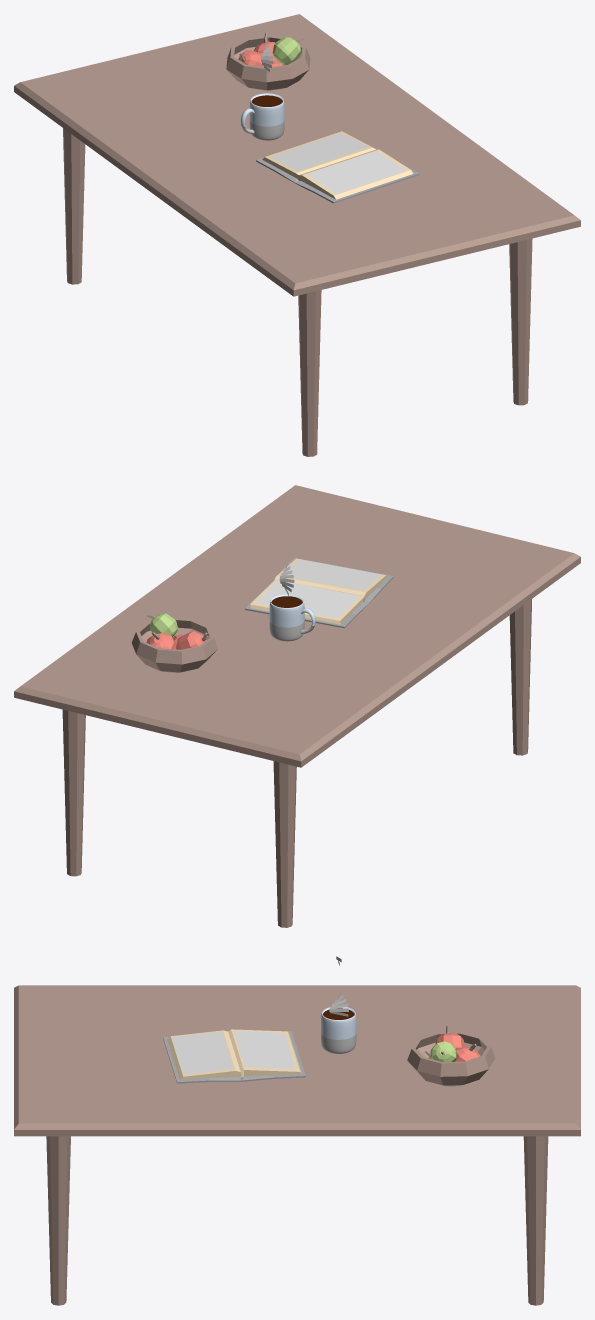
Rendered from table.glb.
The picture shows the model from 3 angles, top to bottom: view 1: azimuth 30°, elevation 25°; view 2: azimuth 150°, elevation 25°; view 3: azimuth 270°, elevation 25°; orthographic projection.
Visible parts, largest first — view 1: table, fruit_basket, open_book, right_page_ref, left_page_ref, mug_top; view 2: table, fruit_basket, open_book, left_page_ref, right_page_ref, mug_top; view 3: table, fruit_basket, open_book, right_page_ref, left_page_ref, mug_top, mug_bottom.
Boxes of the visible parts, box(x1,y1,x2,y2) form: table: box(14, 14, 580, 456); fruit_basket: box(226, 32, 310, 90); open_book: box(256, 131, 419, 203); right_page_ref: box(306, 151, 406, 194); left_page_ref: box(272, 133, 368, 171); mug_top: box(240, 93, 284, 126); table: box(14, 485, 580, 927); fruit_basket: box(131, 613, 217, 672); open_book: box(245, 557, 393, 628); left_page_ref: box(256, 580, 359, 617); right_page_ref: box(286, 560, 382, 590); mug_top: box(269, 594, 315, 627); table: box(14, 985, 580, 1305); fruit_basket: box(407, 1026, 495, 1086); open_book: box(163, 1029, 305, 1083); right_page_ref: box(171, 1031, 233, 1074); left_page_ref: box(233, 1030, 295, 1069); mug_top: box(321, 1007, 356, 1039); mug_bottom: box(321, 1033, 356, 1053).
Bounding box in the file's own units: 11.74 × 11.08 × 19.8.
